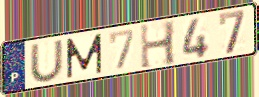4: (181, 16, 212, 60)
7: (217, 7, 247, 56), (107, 27, 136, 72)
H: (138, 19, 178, 71)
M: (65, 32, 104, 81)
U: (29, 38, 66, 84)
